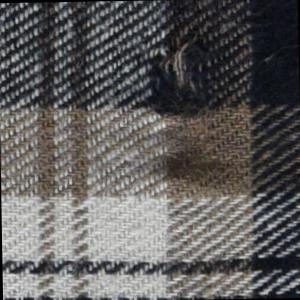Damage: (144, 1, 235, 121)
Stain: (154, 138, 242, 197)
